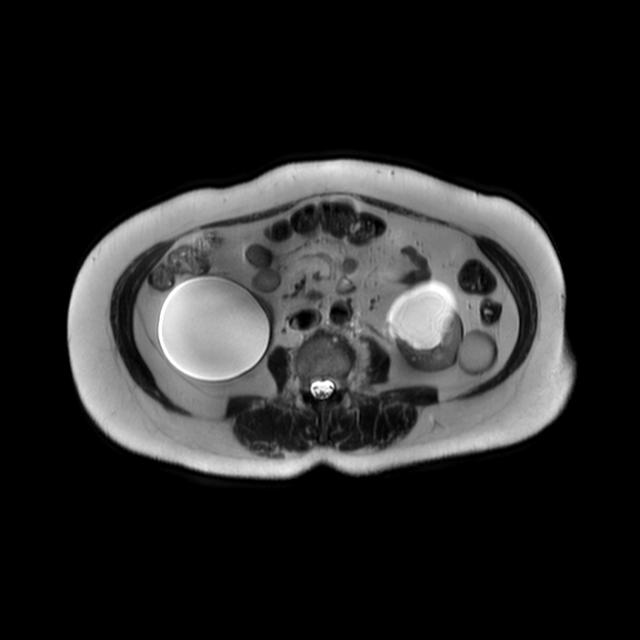sag: (156, 275, 273, 386)
sol: (386, 280, 497, 378)
